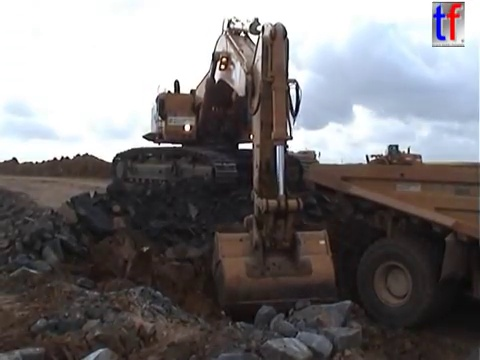excavator: (108, 13, 344, 330)
truck: (304, 160, 480, 331), (349, 142, 425, 175)
